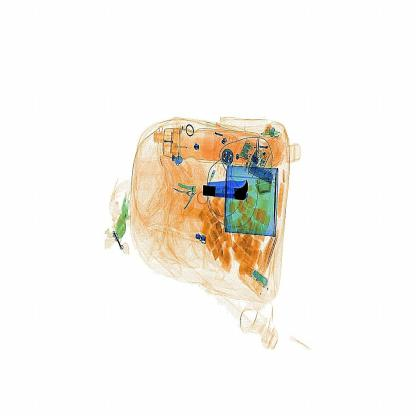knife: (201, 171, 258, 204)
